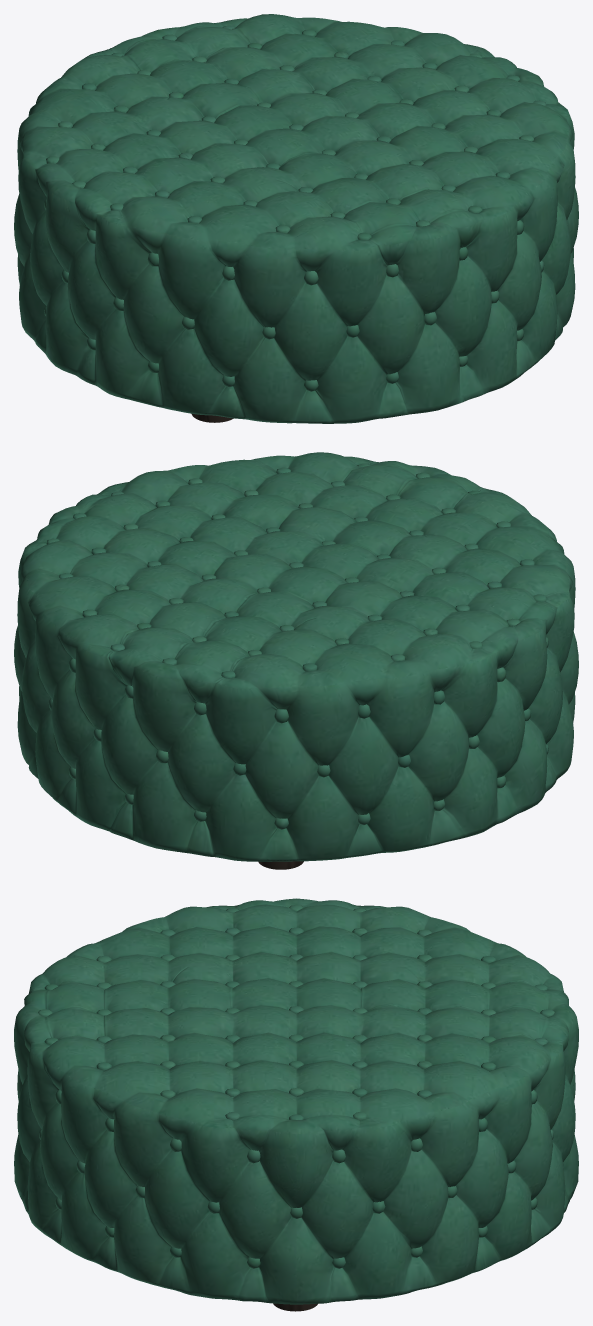
The picture shows the model from 3 angles, top to bottom: view 1: azimuth 30°, elevation 25°; view 2: azimuth 150°, elevation 25°; view 3: azimuth 270°, elevation 25°; orthographic projection.
Parts seen in each view (by area): view 1: B07B4G5SY7; view 2: B07B4G5SY7; view 3: B07B4G5SY7.
Part boxes in pixels (x1=…): B07B4G5SY7: x1=14, y1=14, x2=578, y2=423; B07B4G5SY7: x1=14, y1=452, x2=578, y2=869; B07B4G5SY7: x1=14, y1=898, x2=578, y2=1311.
Size of the model in its own units: 0.9982 by 0.3987 by 0.9982.
Materials: 1 (1 with a texture image).
